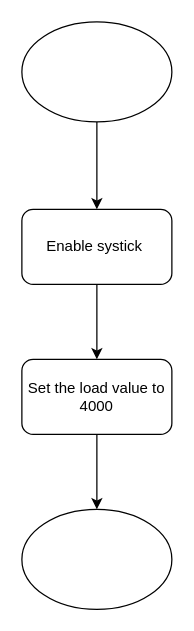
This 194x631 diagram has some shape labels left out. Each missing label, with the box of its shape:
Start: (21, 21, 172, 122)
Stop: (21, 508, 172, 609)
